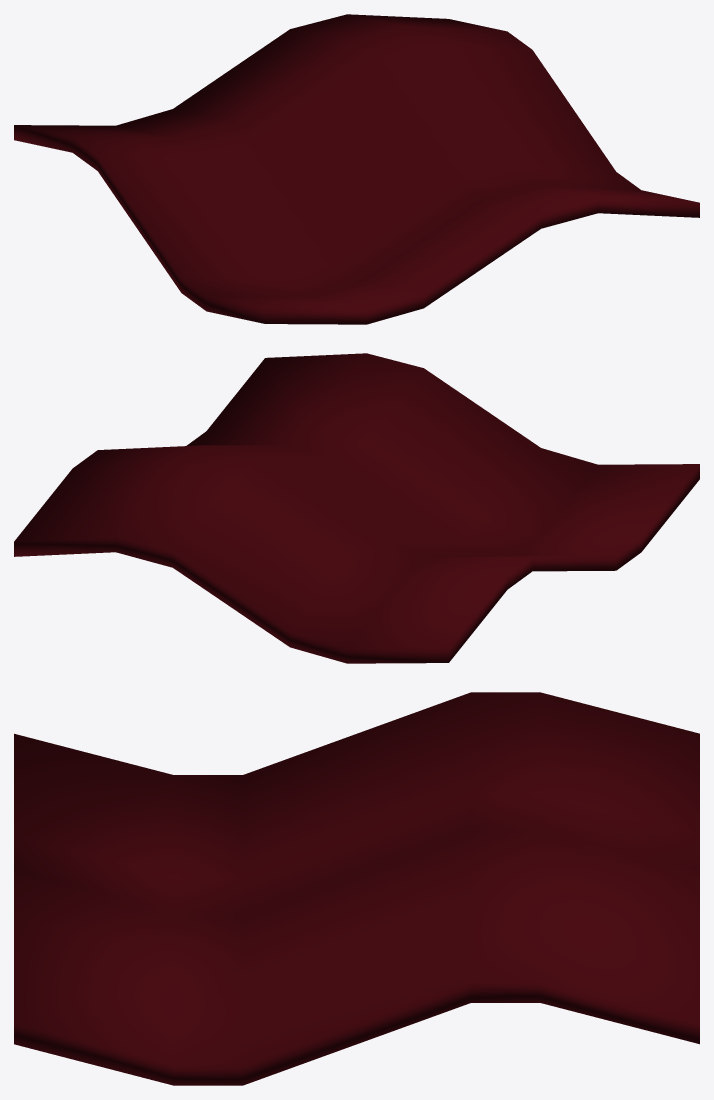
Rendered from Cloth.fbx.
The picture shows the model from 3 angles, top to bottom: view 1: azimuth 30°, elevation 25°; view 2: azimuth 150°, elevation 25°; view 3: azimuth 270°, elevation 25°; orthographic projection. The views are drawn at different scales.
Parts seen in each view (by area): view 1: Cloth_LOD0; view 2: Cloth_LOD0; view 3: Cloth_LOD0.
Part boxes in pixels (x1,y1,x2,y2): Cloth_LOD0: [14, 14, 699, 324]; Cloth_LOD0: [14, 353, 699, 663]; Cloth_LOD0: [14, 692, 699, 1085].
Size of what is drawn, in the model's own units: 0.3 by 0.0862 by 0.3.
